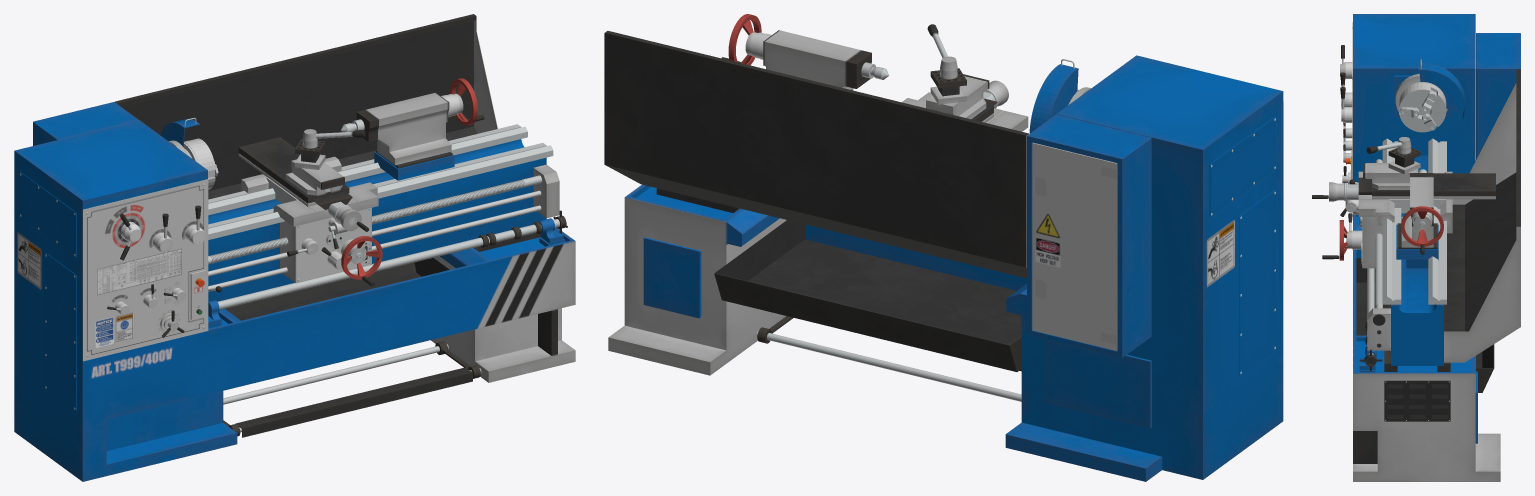
Rendered from turning-lathe-machine.fbx.
3 views of the same model, side by side, from view 1: azimuth 30°, elevation 25°; view 2: azimuth 150°, elevation 25°; view 3: azimuth 270°, elevation 25° (orthographic). The views are drawn at different scales.
Parts seen in each view (by area): view 1: Turning lathe machine; view 2: Turning lathe machine; view 3: Turning lathe machine.
Boxes of the visible parts, bbox=[...] form: Turning lathe machine: bbox=[14, 14, 575, 481]; Turning lathe machine: bbox=[604, 14, 1283, 481]; Turning lathe machine: bbox=[1312, 14, 1520, 481].
Bounding box in the file's own units: 228 × 132 × 92.6.
2 materials, 2 textured.
